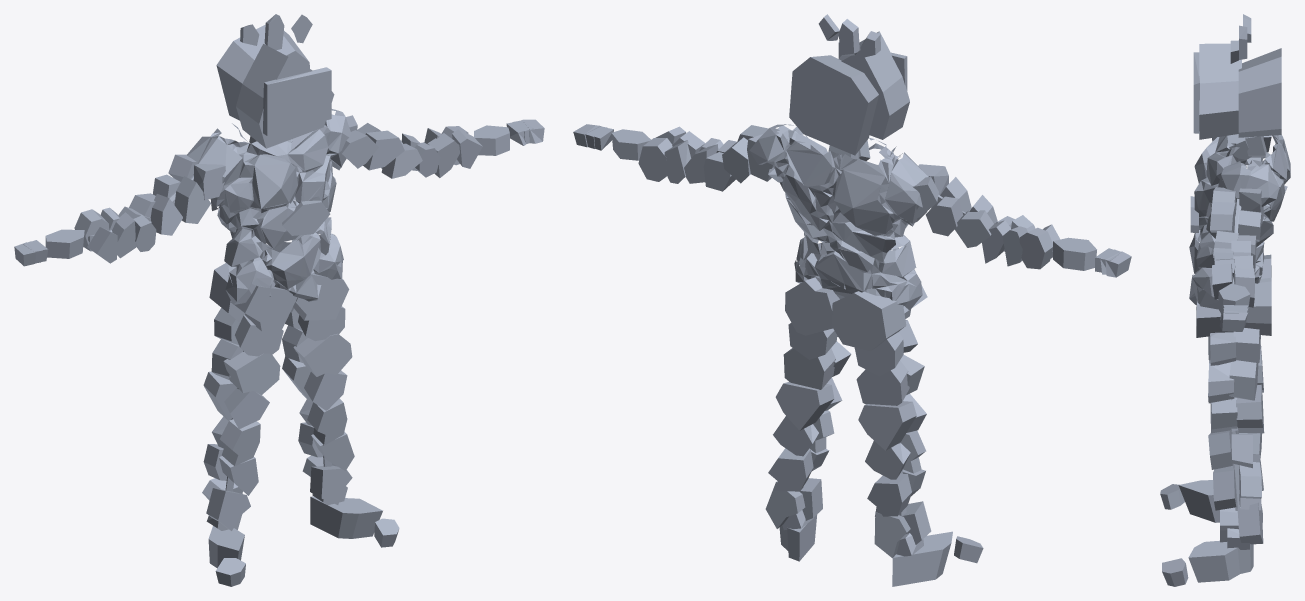
The model's file is rock1-clay.glb.
3 renders of one model, left to right at view 1: azimuth 30°, elevation 25°; view 2: azimuth 150°, elevation 25°; view 3: azimuth 270°, elevation 25°, orthographic. The views are drawn at different scales.
Parts seen in each view (by area): view 1: CAPsRockPreview; view 2: CAPsRockPreview; view 3: CAPsRockPreview.
Part boxes in pixels (x1=…): CAPsRockPreview: x1=14, y1=14, x2=544, y2=586; CAPsRockPreview: x1=573, y1=14, x2=1131, y2=586; CAPsRockPreview: x1=1160, y1=14, x2=1290, y2=586.
Bounding box in the file's own units: 2.17 × 2.07 × 0.4702.
